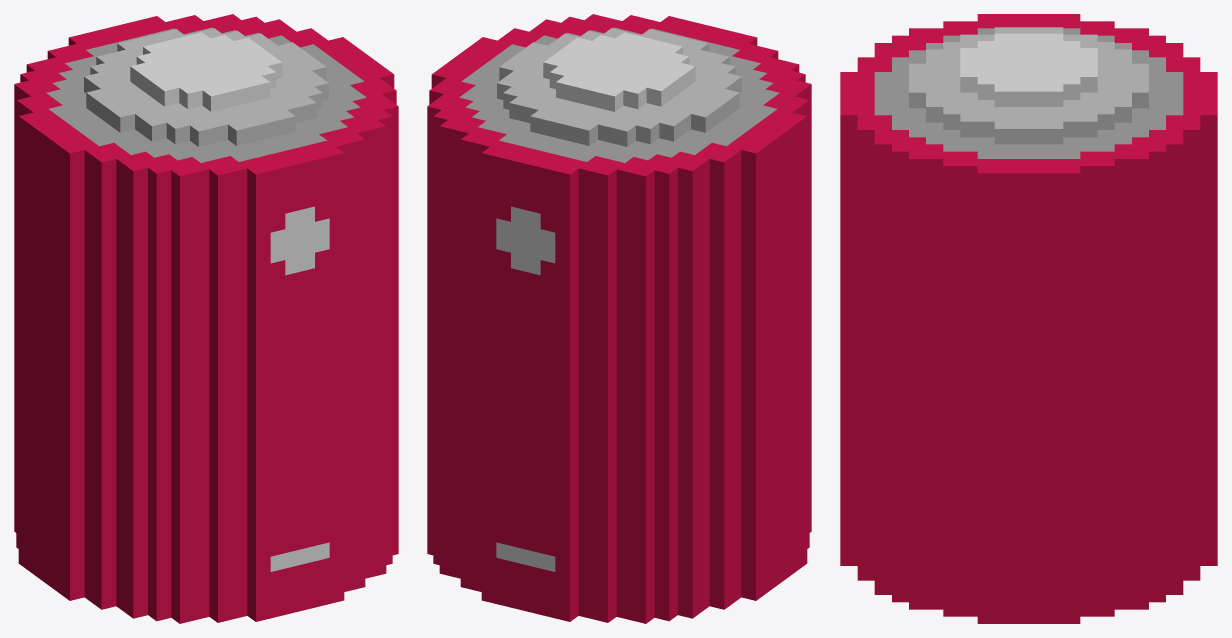
File: battery_3_1.2r.obj
3 renders of one model, left to right at view 1: azimuth 30°, elevation 25°; view 2: azimuth 150°, elevation 25°; view 3: azimuth 270°, elevation 25°, orthographic.
Size of the model in its own units: 2.2 by 3.1 by 2.2.
1 material, 1 textured.
